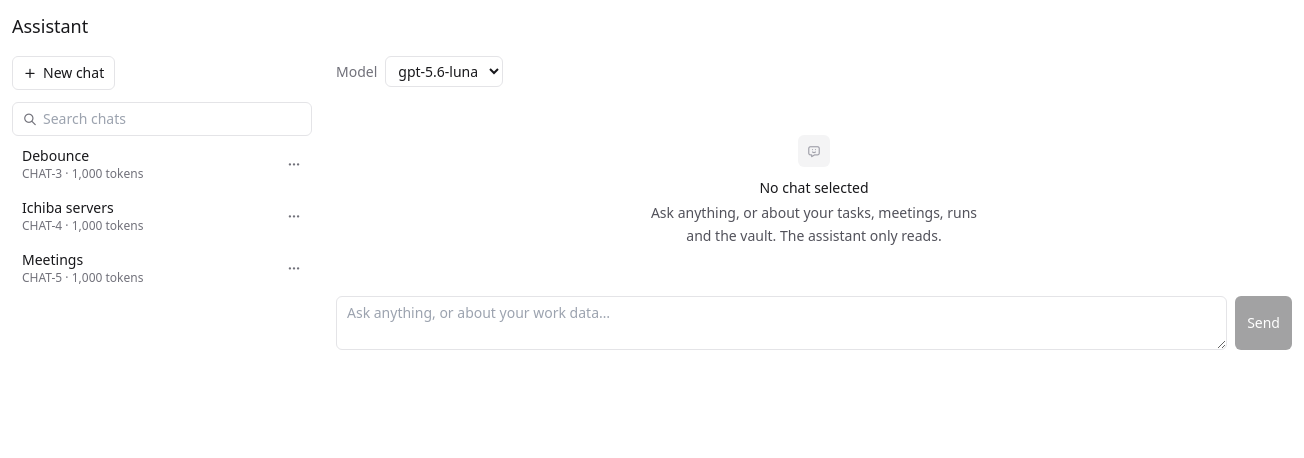
Test case: edit and resend › AC-9: Edit shows Save and resend and the warning line
Click the button "Debounce CHAT-3 · 1,000 tokens" at (144, 164), box [12,140,276,188]
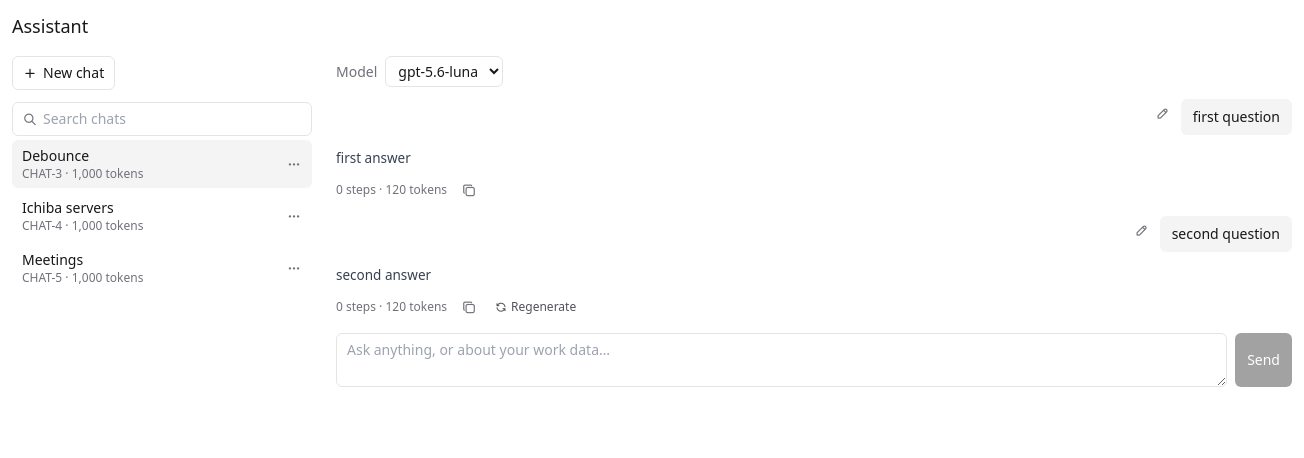
Result: the text "second answer" is shown at [336,266,431,284]
Click the button named "Edit question" next to "first question" at (1163, 113), box [1149,99,1177,127]
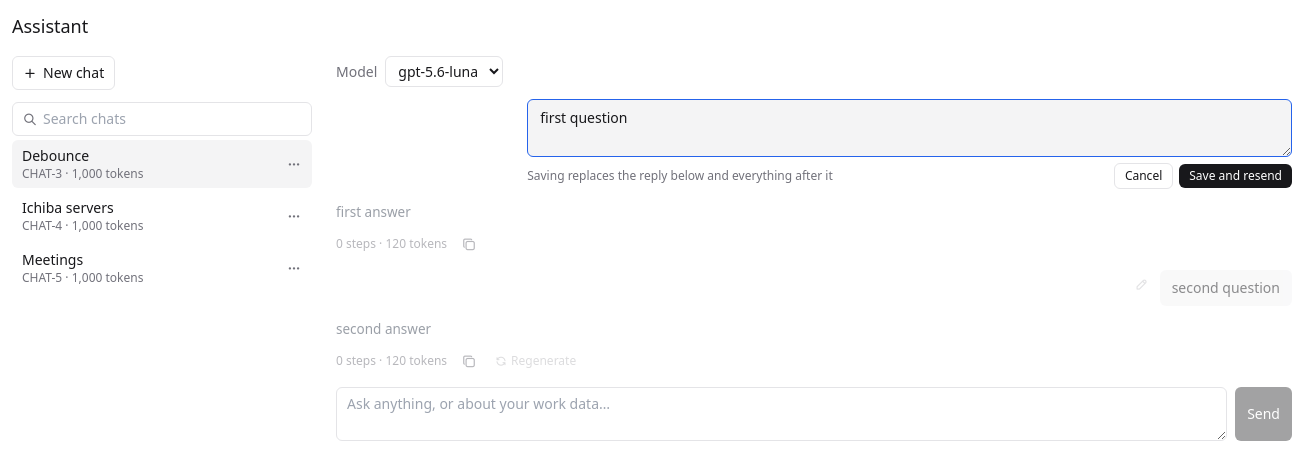
Result: the button "Save and resend" is shown at [1179,164,1292,188]
Result: the text "Saving replaces the reply below and everything after it" is shown at [527,168,833,184]
